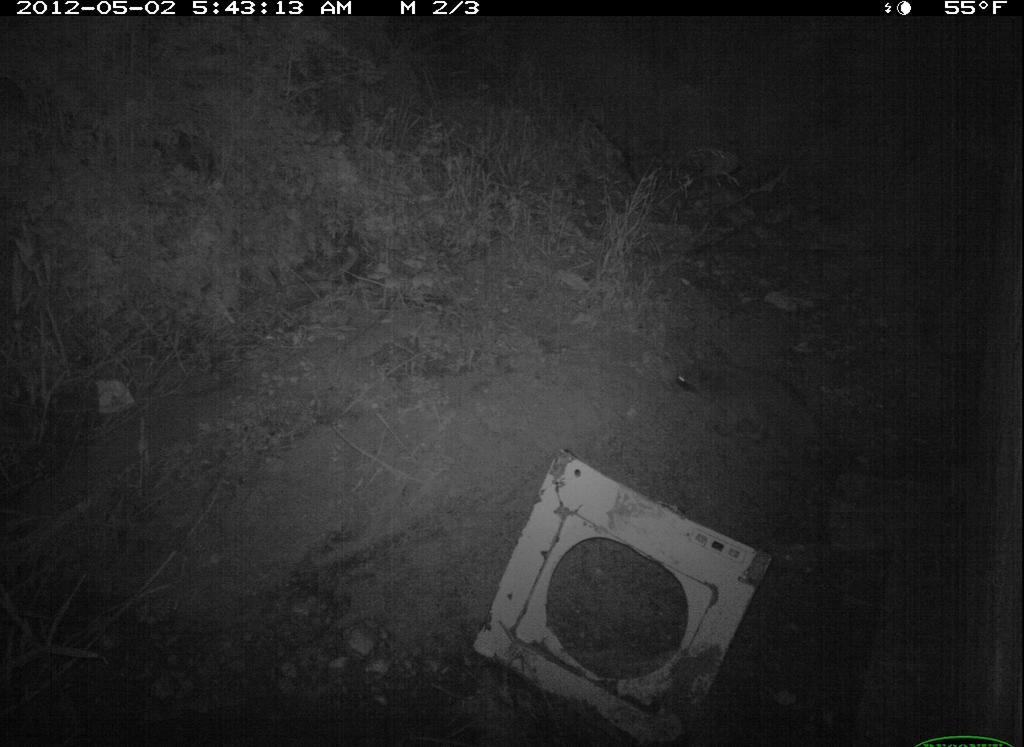raccoon: (675, 351, 835, 468)
